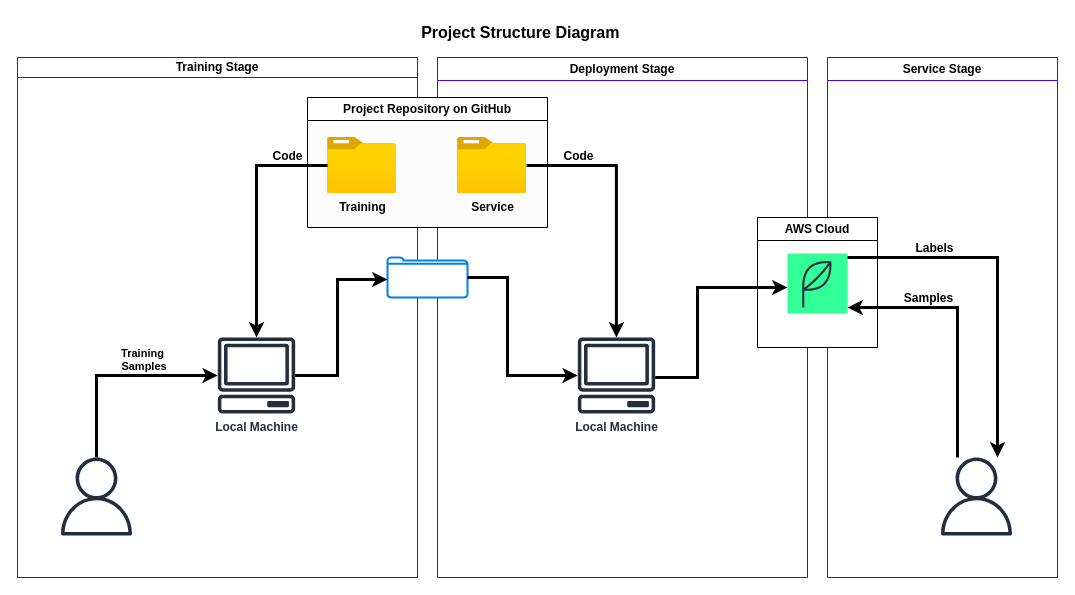
Image size: 1075x595. Some labels were removed from this diagram. The centre of each missing label's shape, as x and y in pixels:
Application: (x=817, y=283)
Client: (x=976, y=496)
ML Engineer: (x=96, y=496)
ML Model: (x=427, y=277)
